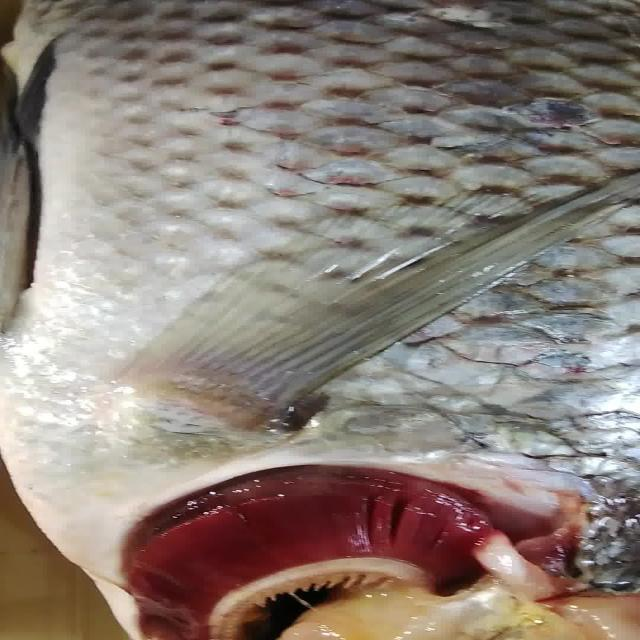Fresh: (65, 442, 549, 640)
